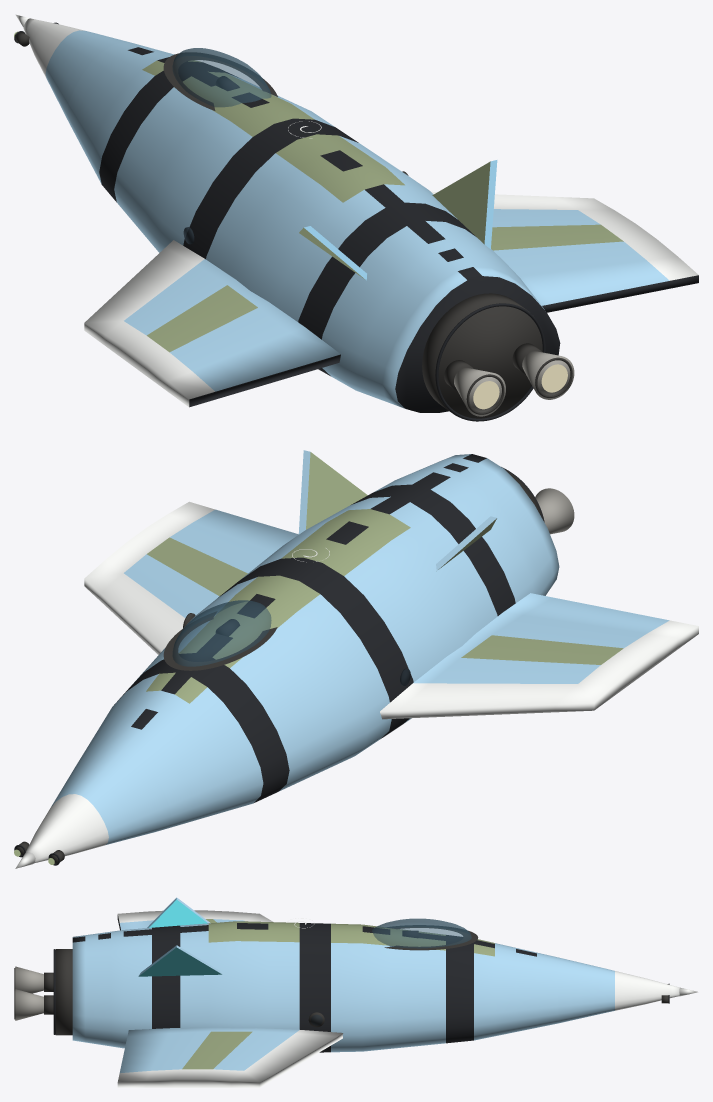
File: Ship_Standard_2.glb
3 renders of one model, top to bottom at view 1: azimuth 30°, elevation 25°; view 2: azimuth 150°, elevation 25°; view 3: azimuth 270°, elevation 25°, orthographic. The views are drawn at different scales.
Parts seen in each view (by area): view 1: Fuselage_RoundedSectionPaintedMesh, Wing_Left_EmbeddedPaintShoulderPlane, Wing_Right_EmbeddedPaintShoulderPlane, EngineBlock_AftSectionMountPlate, Nose_FacetedTaperPaintedMesh, CanopyGlass_LowDorsalDome, TailFin_Right_CantedStabilizerPaintedMesh, CanopyFrame_LowDorsalRim, EngineEmitter, EngineBell_Right_BurnishedNozzle, EngineBell_Left_BurnishedNozzle, EngineBlock_AftDarkTrimRing (+1 smaller); view 2: Fuselage_RoundedSectionPaintedMesh, Wing_Left_EmbeddedPaintShoulderPlane, Wing_Right_EmbeddedPaintShoulderPlane, Nose_FacetedTaperPaintedMesh, CanopyGlass_LowDorsalDome, TailFin_Right_CantedStabilizerPaintedMesh, CanopyFrame_LowDorsalRim, EngineBell_Left_BurnishedNozzle, TailFin_Left_CantedStabilizerPaintedMesh; view 3: Fuselage_RoundedSectionPaintedMesh, Wing_Right_EmbeddedPaintShoulderPlane, Nose_FacetedTaperPaintedMesh, CanopyGlass_LowDorsalDome, EngineBlock_AftSectionMountPlate, TailFin_Right_CantedStabilizerPaintedMesh, Wing_Left_EmbeddedPaintShoulderPlane, TailFin_Left_CantedStabilizerPaintedMesh, CanopyFrame_LowDorsalRim, EngineBell_Right_BurnishedNozzle, EngineBell_Left_BurnishedNozzle.
Part boxes in pixels (box(x1,y1,x2,y2)): Fuselage_RoundedSectionPaintedMesh: box(67, 42, 560, 412); Wing_Left_EmbeddedPaintShoulderPlane: box(84, 240, 340, 407); Wing_Right_EmbeddedPaintShoulderPlane: box(431, 191, 698, 312); EngineBlock_AftSectionMountPlate: box(422, 293, 542, 418); Nose_FacetedTaperPaintedMesh: box(23, 18, 131, 120); CanopyGlass_LowDorsalDome: box(172, 48, 271, 107); TailFin_Right_CantedStabilizerPaintedMesh: box(432, 160, 497, 248); CanopyFrame_LowDorsalRim: box(163, 52, 277, 110); EngineEmitter: box(473, 364, 567, 409); EngineBell_Right_BurnishedNozzle: box(522, 351, 574, 399); EngineBell_Left_BurnishedNozzle: box(454, 368, 505, 416); EngineBlock_AftDarkTrimRing: box(435, 303, 545, 421); Fuselage_RoundedSectionPaintedMesh: box(76, 454, 559, 828); Wing_Left_EmbeddedPaintShoulderPlane: box(380, 593, 698, 719); Wing_Right_EmbeddedPaintShoulderPlane: box(84, 501, 298, 654); Nose_FacetedTaperPaintedMesh: box(26, 744, 171, 863); CanopyGlass_LowDorsalDome: box(172, 600, 271, 666); TailFin_Right_CantedStabilizerPaintedMesh: box(298, 450, 367, 534); CanopyFrame_LowDorsalRim: box(163, 612, 277, 670); EngineBell_Left_BurnishedNozzle: box(535, 488, 574, 534); TailFin_Left_CantedStabilizerPaintedMesh: box(436, 516, 496, 570); Fuselage_RoundedSectionPaintedMesh: box(72, 921, 558, 1052); Wing_Right_EmbeddedPaintShoulderPlane: box(117, 1027, 343, 1087); Nose_FacetedTaperPaintedMesh: box(558, 957, 679, 1023); CanopyGlass_LowDorsalDome: box(372, 918, 471, 948); EngineBlock_AftSectionMountPlate: box(55, 949, 72, 1035); TailFin_Right_CantedStabilizerPaintedMesh: box(138, 945, 222, 976); Wing_Left_EmbeddedPaintShoulderPlane: box(117, 910, 273, 930); TailFin_Left_CantedStabilizerPaintedMesh: box(147, 897, 210, 927); CanopyFrame_LowDorsalRim: box(384, 925, 478, 950); EngineBell_Right_BurnishedNozzle: box(15, 989, 43, 1020); EngineBell_Left_BurnishedNozzle: box(15, 966, 43, 993).
Bounding box in the file's own units: 4.41 × 1.48 × 7.57.
